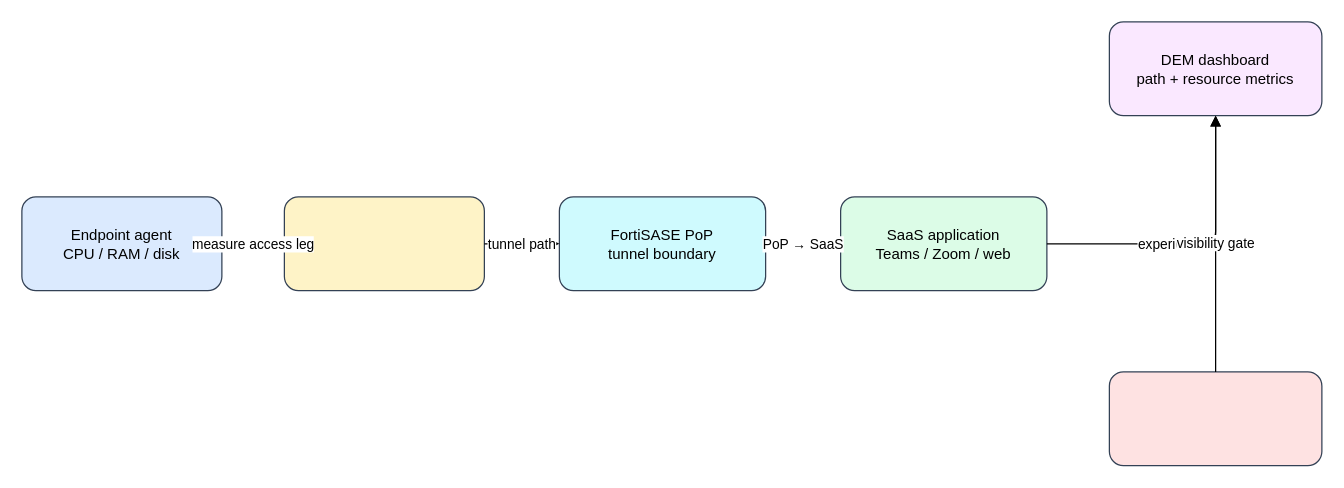
Image size: 1344x488. Some labels were removed from this diagram. Each missing label, with the box of its shape:
Access / ISP endpoint → PoP: (283, 196, 484, 291)
Release / entitlement feature visibility: (1108, 371, 1322, 466)
